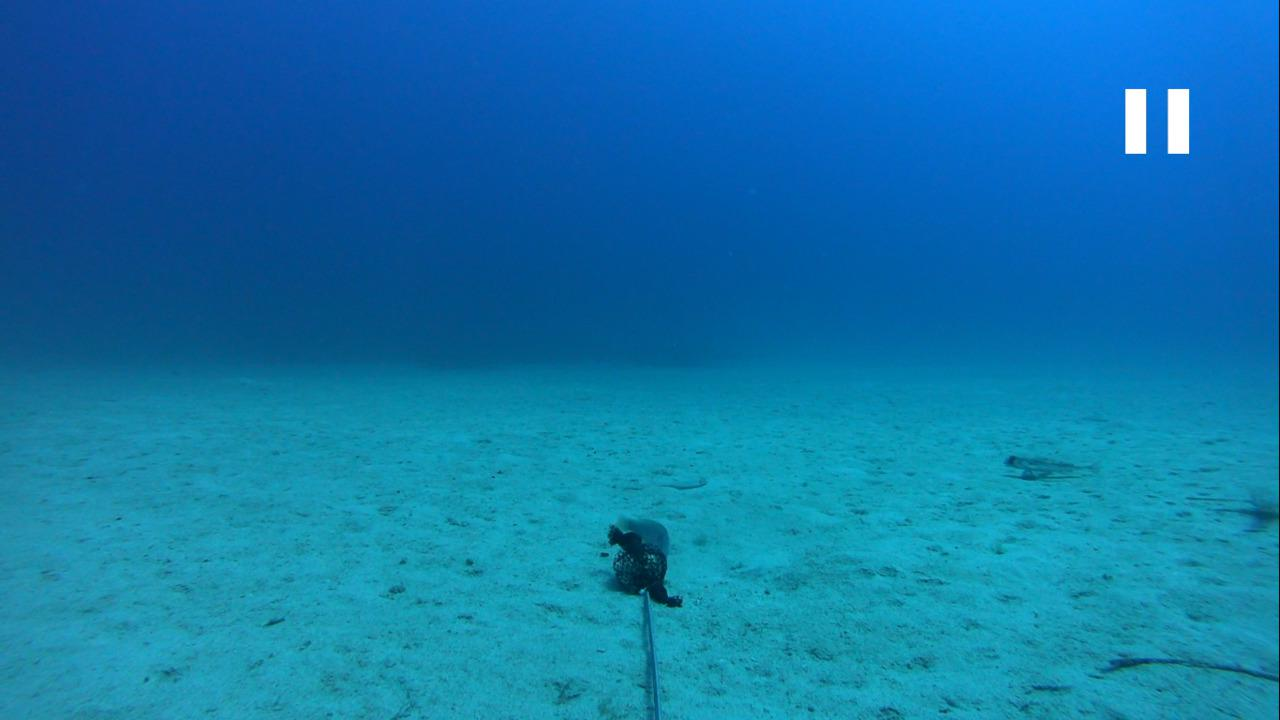bothus: (656, 471, 711, 492)
dactylopterus: (996, 448, 1108, 487), (1221, 485, 1279, 535)
raor: (609, 512, 675, 555)
